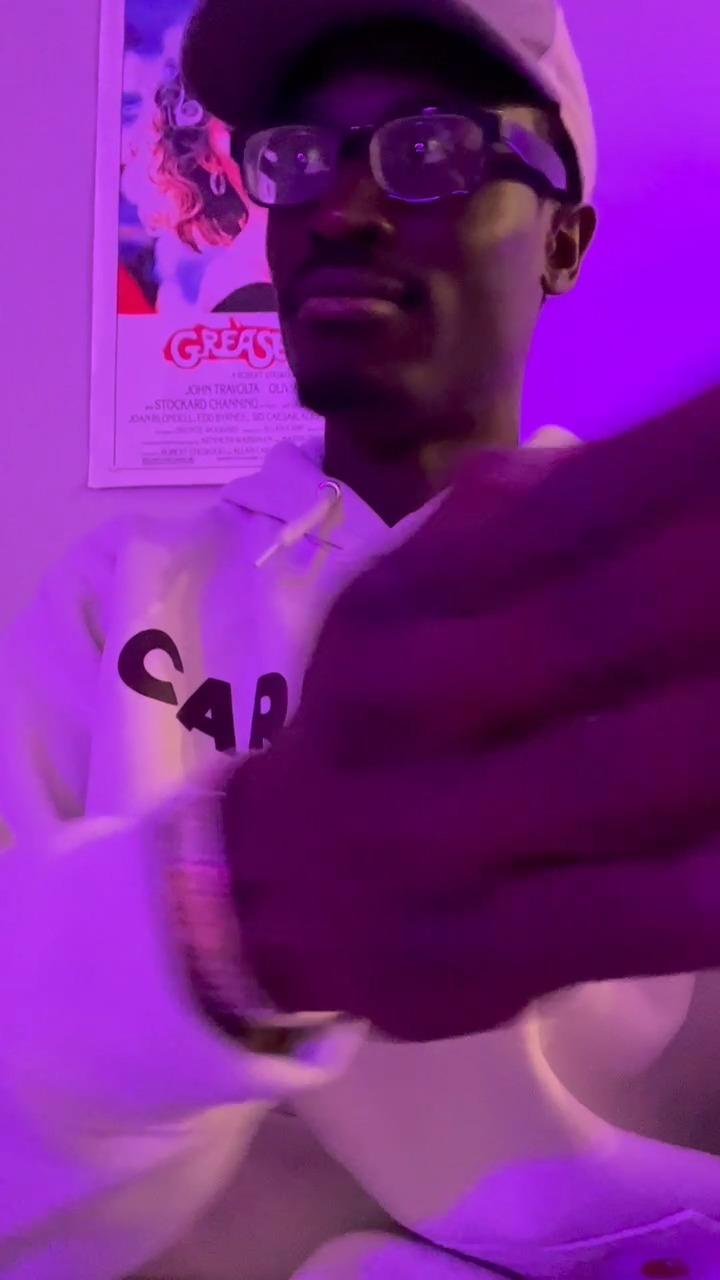Paper: (232, 386, 720, 1053)
